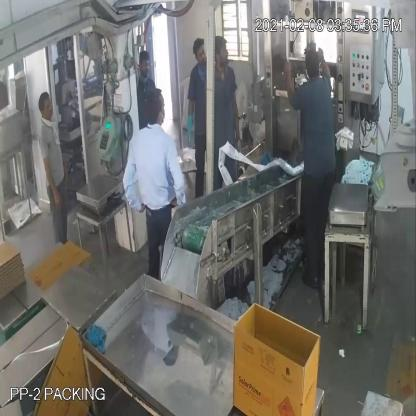glove: (184, 104, 195, 146)
no_glove: (120, 144, 143, 217), (169, 143, 191, 216), (45, 150, 62, 216), (282, 56, 299, 114), (230, 83, 244, 152), (317, 43, 332, 97)
